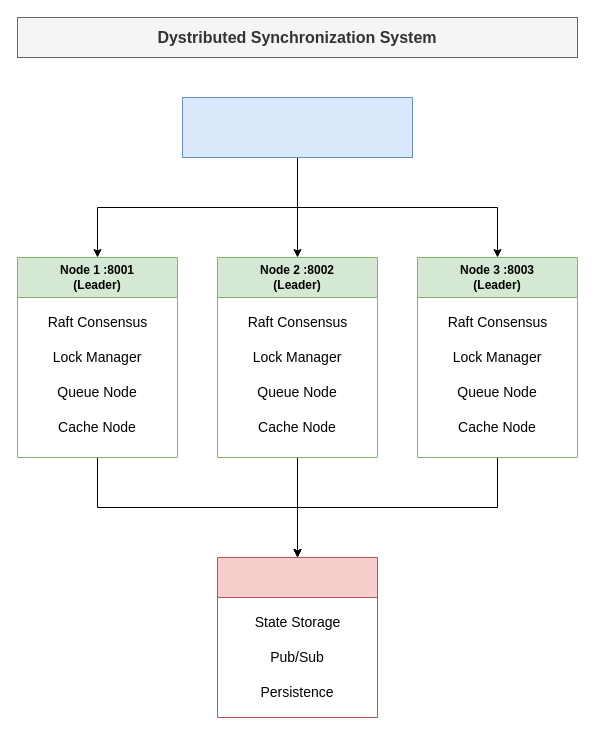
The diagram is 595 pixels wide and 735 high, and some of its shapes have lost their labels. The shapes that lost their labels are listed below. From the top down, each one's box as (x1, y1, x2, y2) in pixels, then its label:
(182, 96, 412, 158): Client Applications (Lock, Queue, Cache Requests)
(216, 556, 378, 718): REDIS (Port: 6379)
